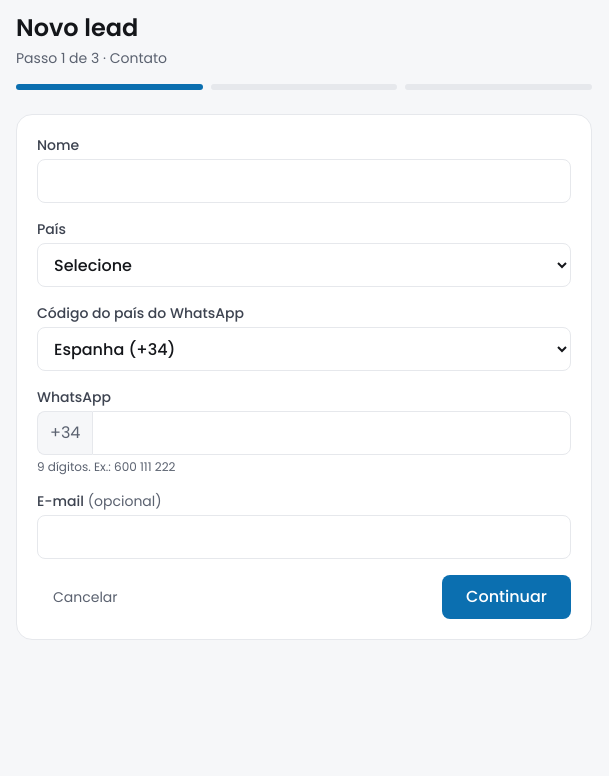
Test: cadastro de lead › avisa quando já existe lead ativo com o mesmo WhatsApp ou e-mail
This screenshot has width=609, height=776.
Type "Ana" into the field labelled "Nome" at x=304, y=181, box [37,159,571,203]
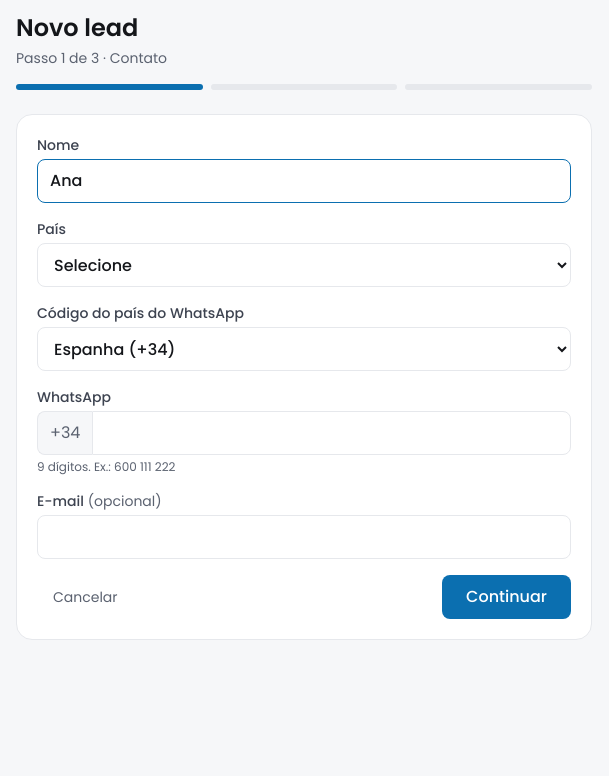
Select "Espanha" in the dropdown labelled "País" at x=304, y=265, box [37,243,571,287]
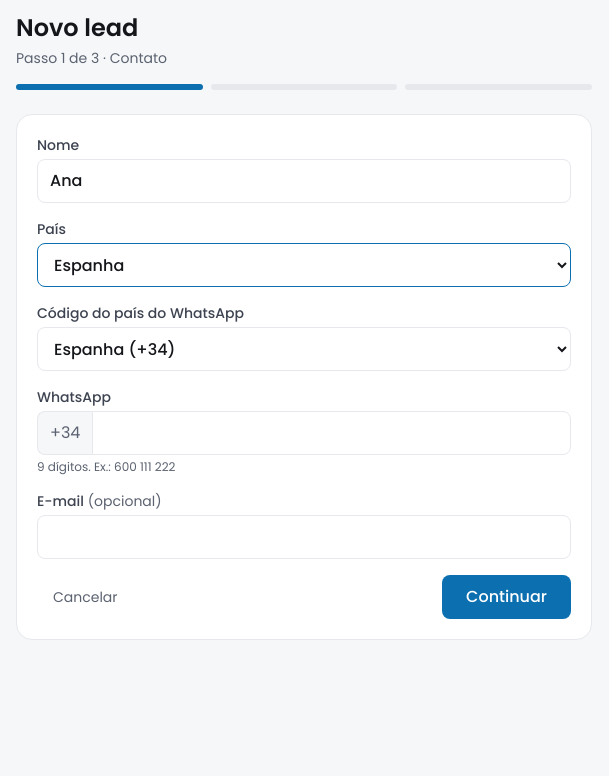
Type "600111222" into the field labelled "WhatsApp" at x=332, y=433, box [92,411,571,455]
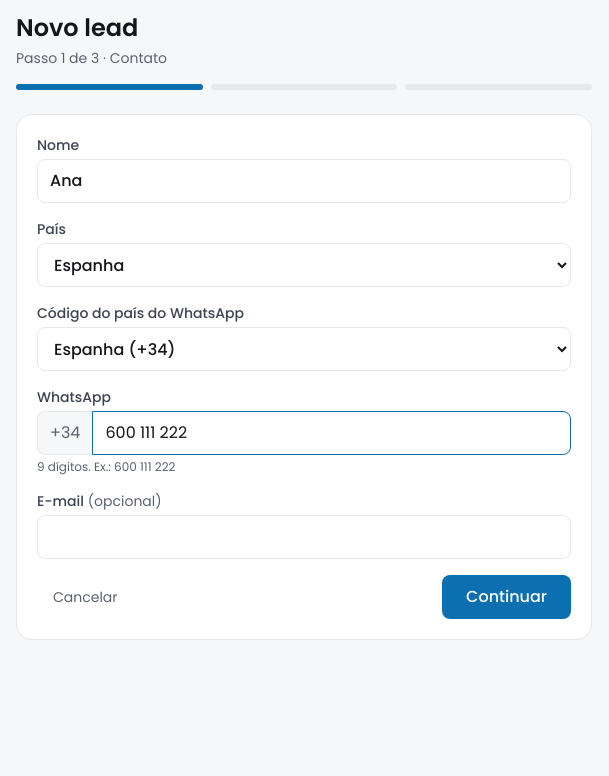
Expected: the field labelled "WhatsApp" holds "600 111 222", [92,411,571,455]
Click the button "Continuar" at x=507, y=597, box [442,575,571,619]
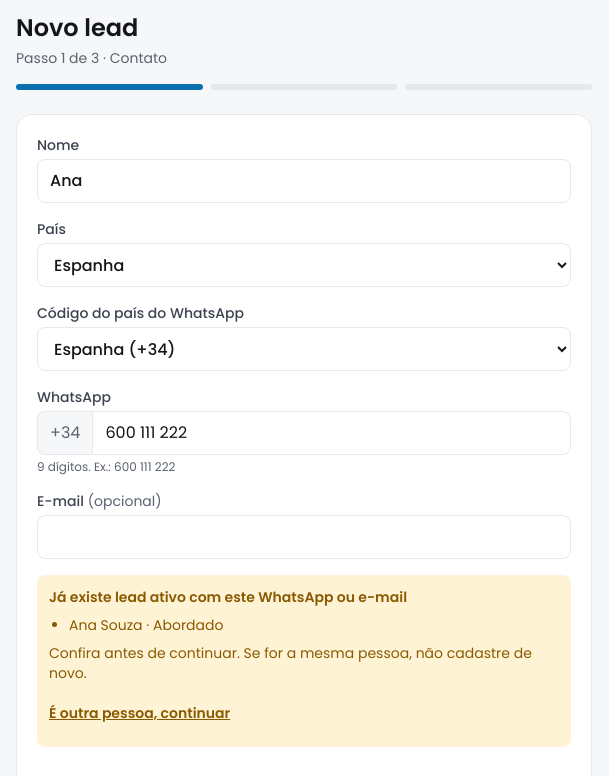
Expected: the text "Já existe lead ativo com este WhatsApp ou e-mail" is shown, [49,587,407,607]
Expected: the list item "Ana Souza · Abordado" is shown, [69,615,224,635]
Click the button "É outra pessoa, continuar" at x=140, y=713, box [49,691,230,735]
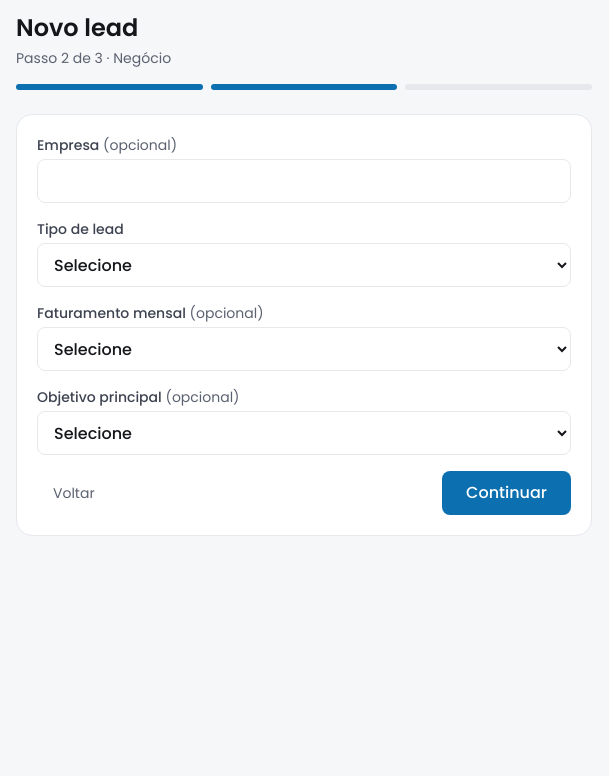
Expected: the text "Passo 2 de 3 · Negócio" is shown, [16,48,171,68]
